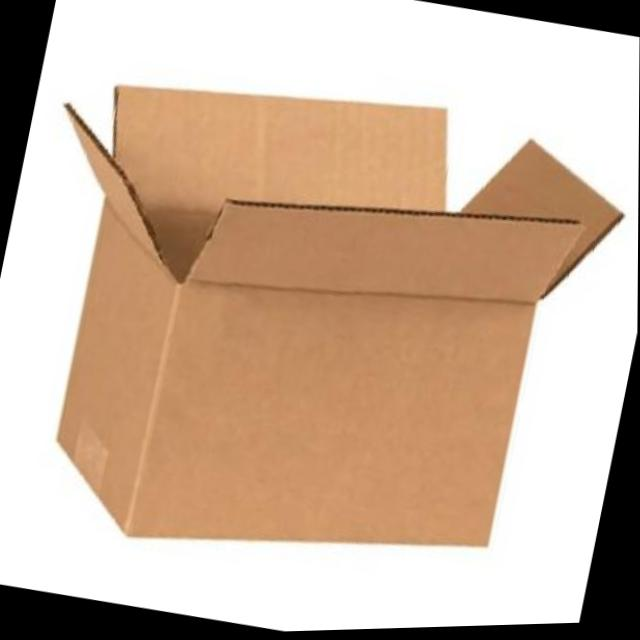box: (0, 24, 640, 632)
